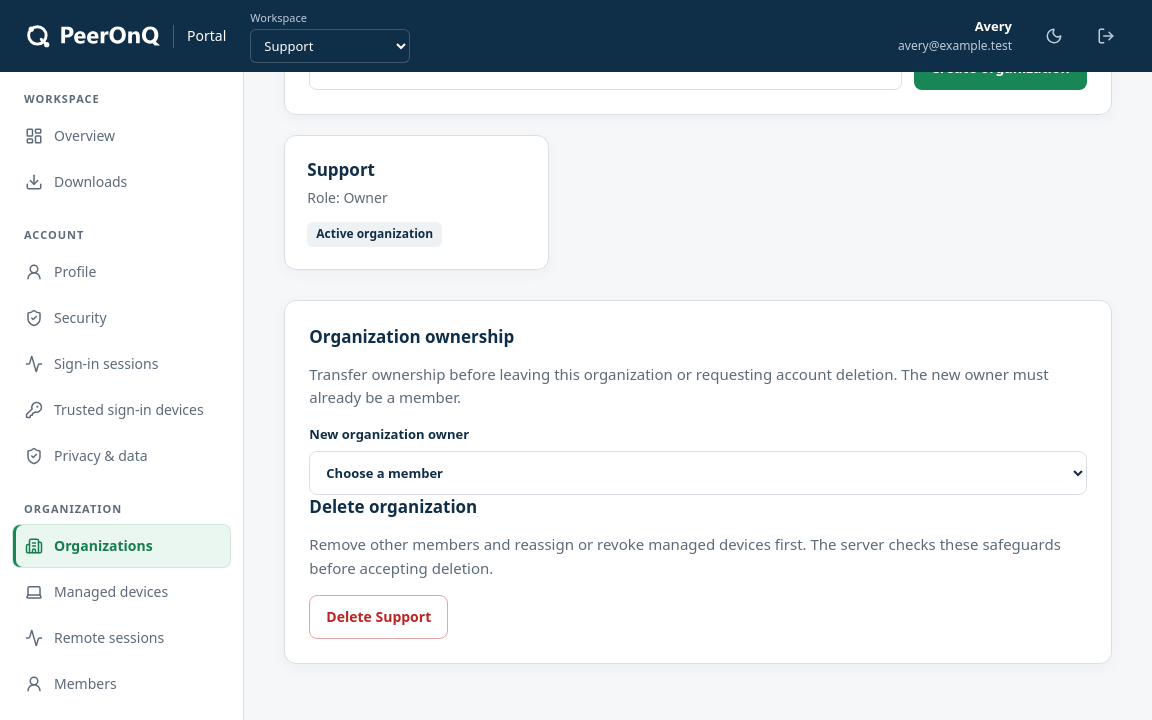
Test: organization lifecycle › preserves server safeguards when organization deletion is rejected
This screenshot has width=1152, height=720.
(page scrolled)
Click the button "Delete Support" at (379, 617), box [309, 595, 448, 639]
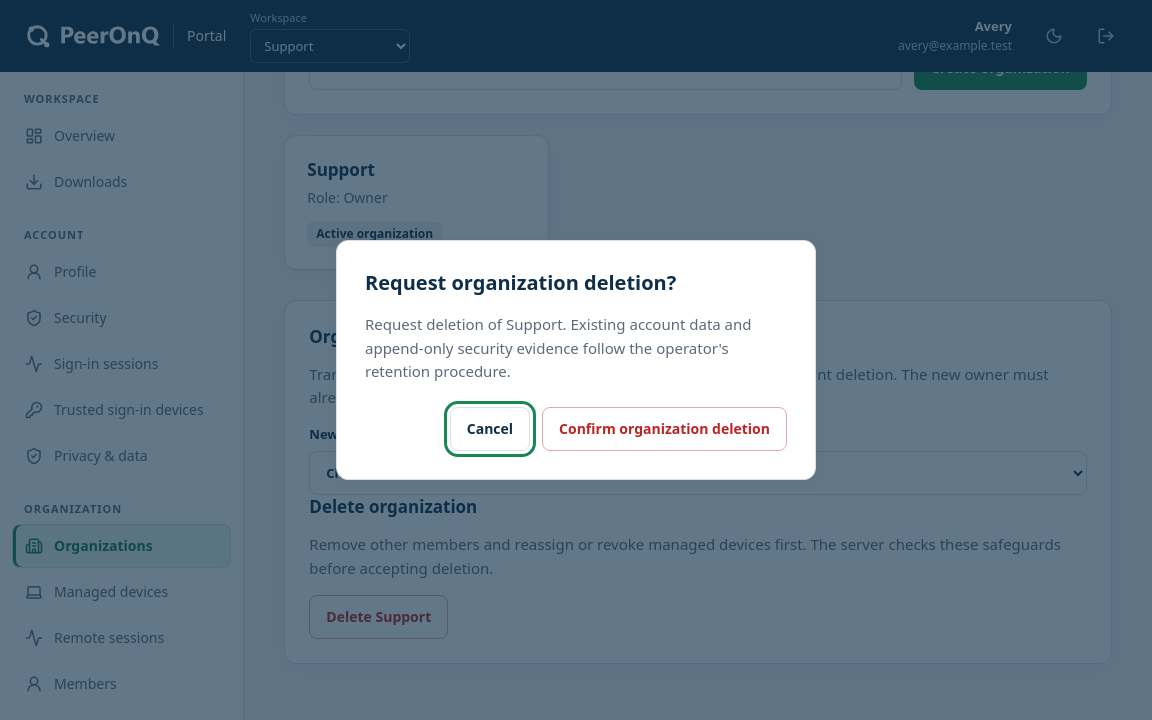
Click the button "Confirm organization deletion" at (665, 429), box [542, 407, 787, 451]
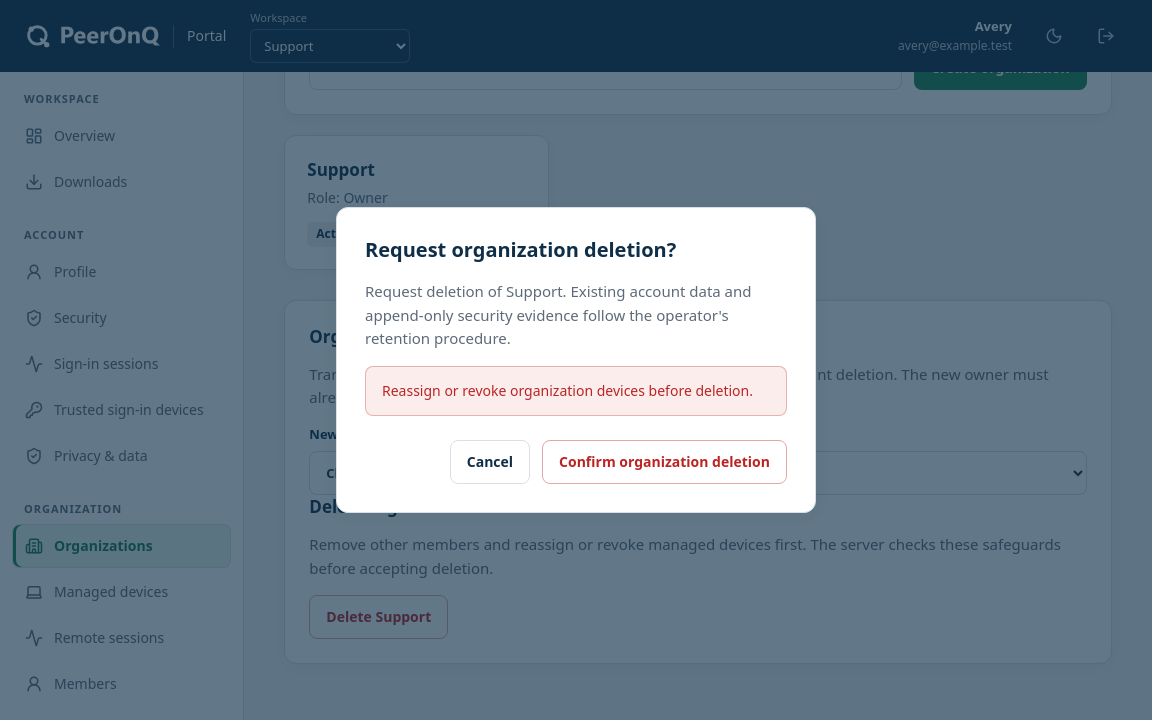
Expected: the dialog is shown, [336, 208, 816, 512]
Expected: the message reads "Reassign or revoke organization devices before deletion.", [382, 381, 753, 400]
